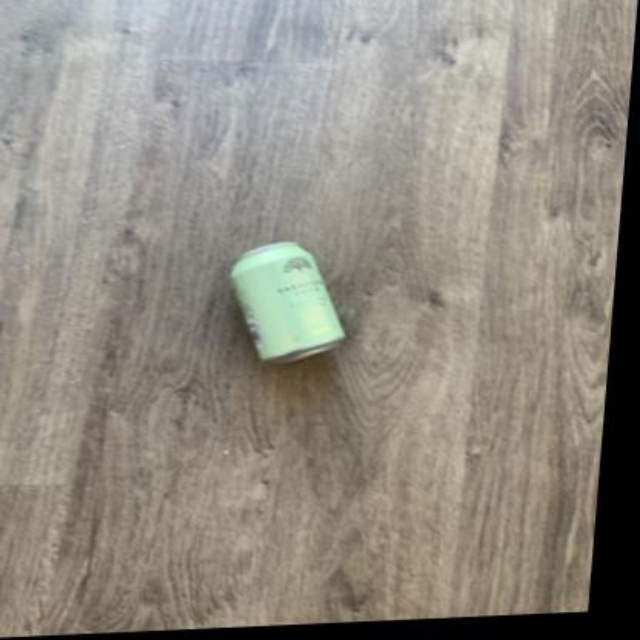trash: (231, 242, 343, 362)
